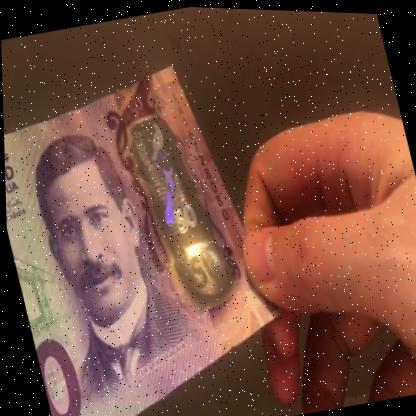50F: (124, 109, 227, 303)
